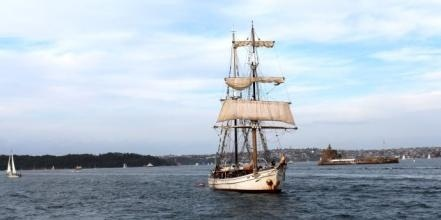fanchuan: (203, 21, 293, 194), (3, 150, 21, 182)
